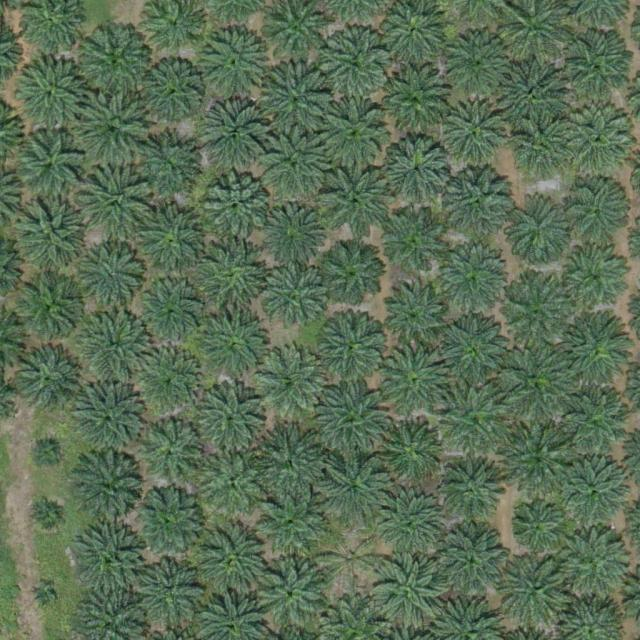Healthy: (557, 105, 635, 184), (75, 90, 153, 169), (76, 21, 154, 100), (193, 241, 271, 320), (199, 309, 277, 388), (11, 195, 89, 274), (78, 162, 156, 241), (554, 387, 632, 466), (501, 423, 579, 502), (189, 377, 267, 456), (197, 25, 268, 96), (501, 279, 572, 350), (384, 282, 455, 353), (317, 311, 388, 382), (321, 170, 392, 241), (82, 311, 153, 382), (501, 556, 572, 627), (11, 345, 82, 416), (76, 526, 147, 597), (131, 345, 202, 416), (199, 446, 270, 517), (252, 427, 323, 498), (497, 59, 567, 130), (260, 67, 331, 137), (198, 102, 268, 173), (260, 134, 330, 205), (384, 139, 454, 210), (14, 57, 84, 128), (13, 130, 83, 201), (562, 175, 632, 246), (563, 244, 633, 315), (503, 195, 573, 266), (559, 315, 629, 386), (379, 212, 449, 283), (439, 250, 509, 321), (444, 167, 514, 238), (441, 314, 511, 385), (256, 199, 327, 269), (203, 172, 273, 243), (137, 206, 207, 277), (15, 276, 85, 347), (559, 459, 629, 530), (136, 487, 206, 558), (140, 415, 210, 486), (256, 489, 327, 559), (256, 346, 326, 417), (319, 383, 389, 454), (374, 554, 444, 625), (378, 494, 448, 565), (379, 345, 449, 416), (440, 382, 510, 453), (438, 526, 508, 597), (562, 29, 632, 99), (440, 100, 510, 170), (382, 69, 452, 139), (322, 28, 392, 98), (319, 99, 389, 169), (262, 267, 332, 337), (559, 529, 629, 599), (502, 348, 572, 418), (75, 387, 145, 457), (75, 457, 145, 527), (201, 524, 271, 594), (259, 562, 329, 632), (320, 453, 390, 523), (322, 244, 385, 307), (139, 286, 202, 349), (84, 249, 147, 312), (447, 32, 509, 95), (143, 561, 205, 624), (442, 457, 504, 520), (141, 62, 203, 124), (132, 139, 194, 201), (380, 421, 442, 483), (515, 124, 562, 171), (513, 505, 560, 552)
Small: (33, 438, 64, 469), (33, 502, 64, 533), (32, 584, 56, 608)
Yellow: (320, 529, 383, 592)
